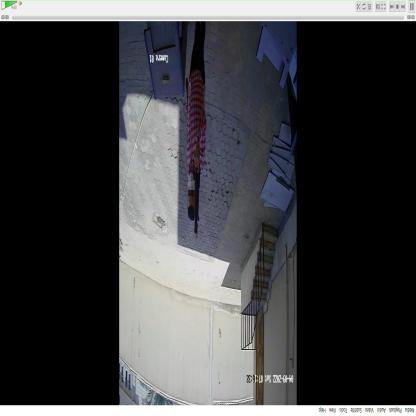handgun: (188, 133, 204, 241)
